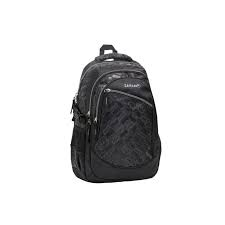backpack: (69, 43, 161, 183)
